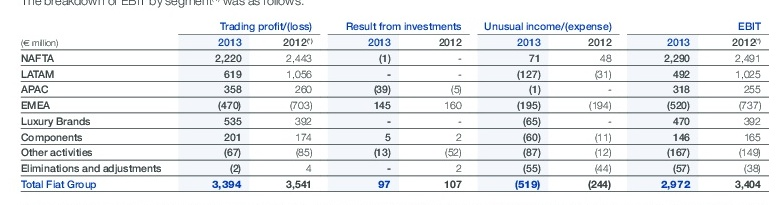table: (0, 0, 782, 205)
